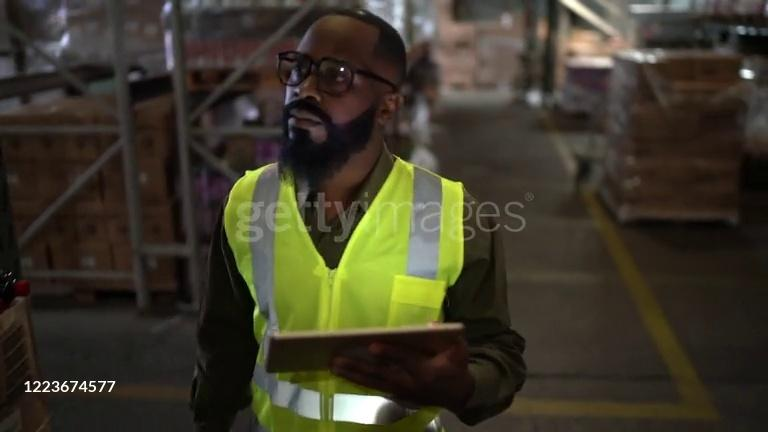person: (188, 4, 527, 432)
